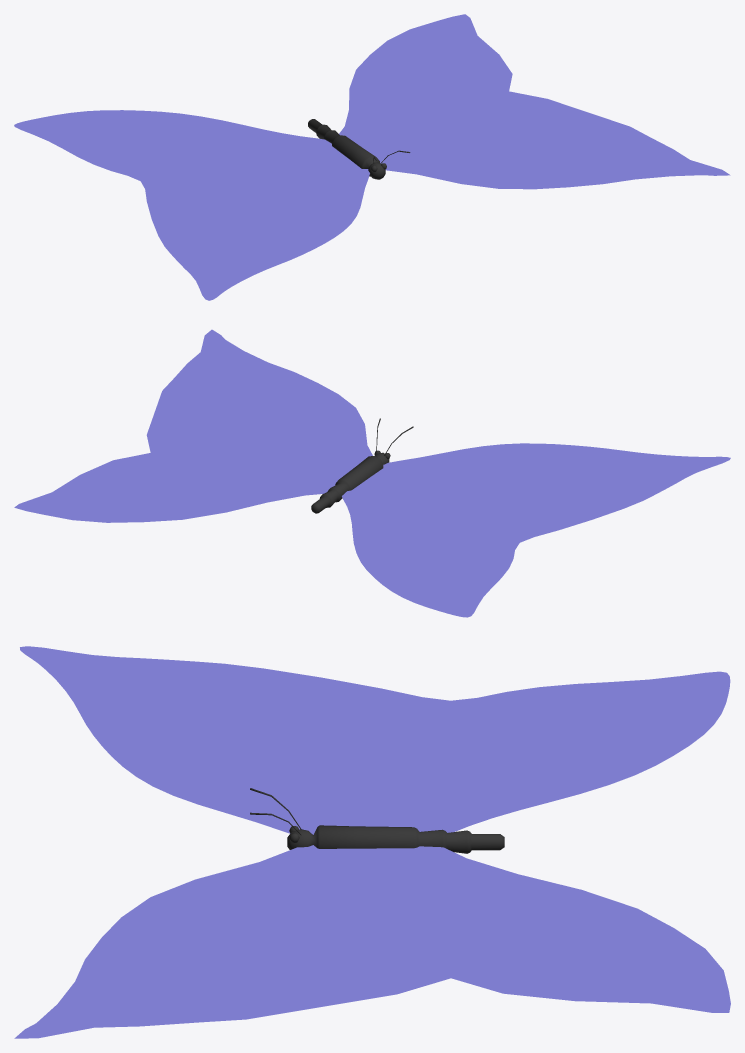
The model's file is Butterfly.fbx.
3 renders of one model, top to bottom at view 1: azimuth 30°, elevation 25°; view 2: azimuth 150°, elevation 25°; view 3: azimuth 270°, elevation 25°, orthographic. The views are drawn at different scales.
Visible parts, largest first — view 1: Butterfly Wing HIGH, Butterfly Wing LOW, Buttefly Body HIGH; view 2: Butterfly Wing HIGH, Butterfly Wing LOW, Buttefly Body HIGH; view 3: Butterfly Wing LOW, Butterfly Wing HIGH, Buttefly Body HIGH.
Part boxes in pixels (<box>): Butterfly Wing HIGH: <box>14,110,369,300</box>; Butterfly Wing LOW: <box>339,14,730,189</box>; Buttefly Body HIGH: <box>308,119,410,179</box>; Butterfly Wing HIGH: <box>342,443,730,617</box>; Butterfly Wing LOW: <box>14,329,372,522</box>; Buttefly Body HIGH: <box>311,418,413,513</box>; Butterfly Wing LOW: <box>14,845,730,1038</box>; Butterfly Wing HIGH: <box>20,646,730,834</box>; Buttefly Body HIGH: <box>250,788,504,853</box>.
Bounding box in the file's own units: 61.12 × 4.14 × 47.17.
